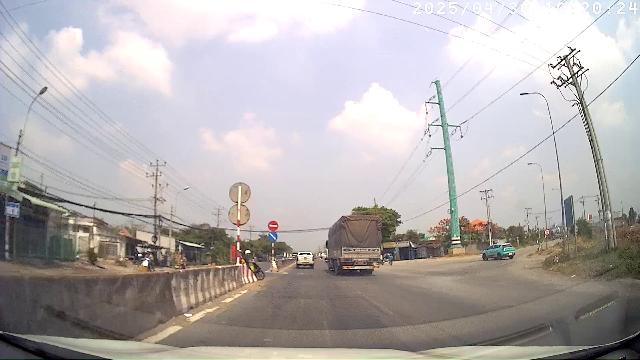102-cam-di-nguoc-chieu: (268, 220, 278, 231)
302a-huong-phai-di-vong-chuong-ngai-vat-1: (268, 231, 278, 242)
